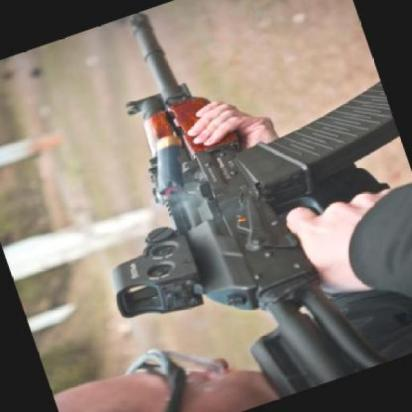Gun: (24, 0, 412, 412)
